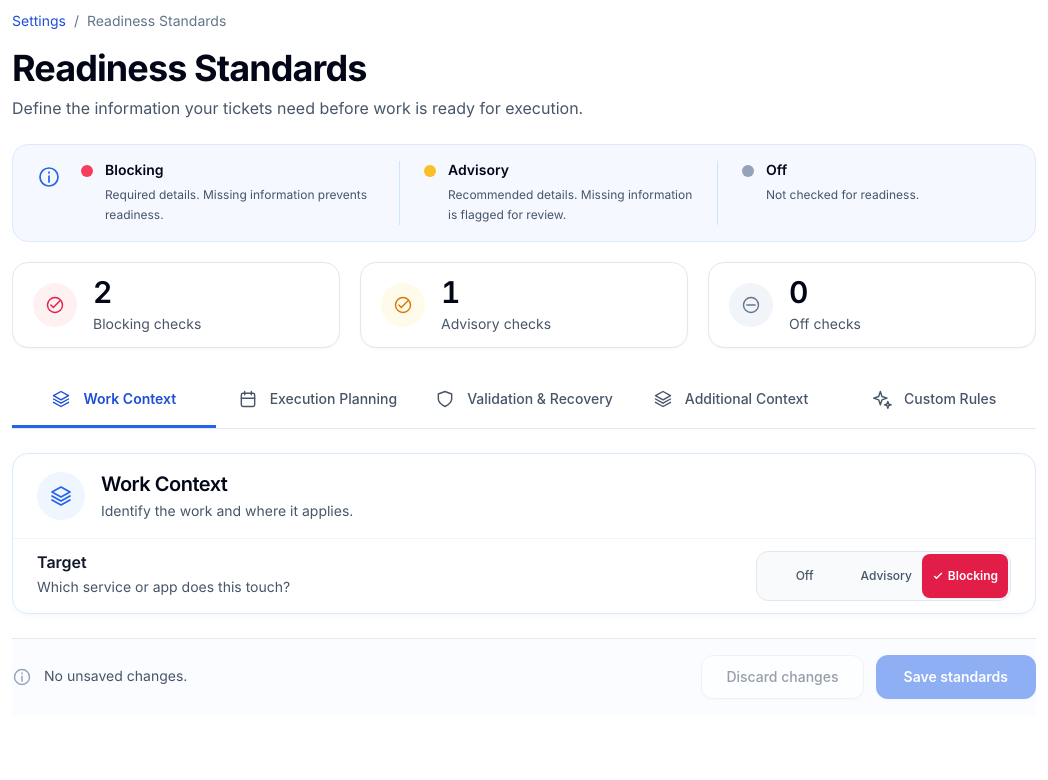
it: ChecklistSettingsPage › offers a custom-rules tab and does not claim a failed rule load is empty
Click the tab "Custom Rules": coordinates (934, 400) [832,372,1036,428]
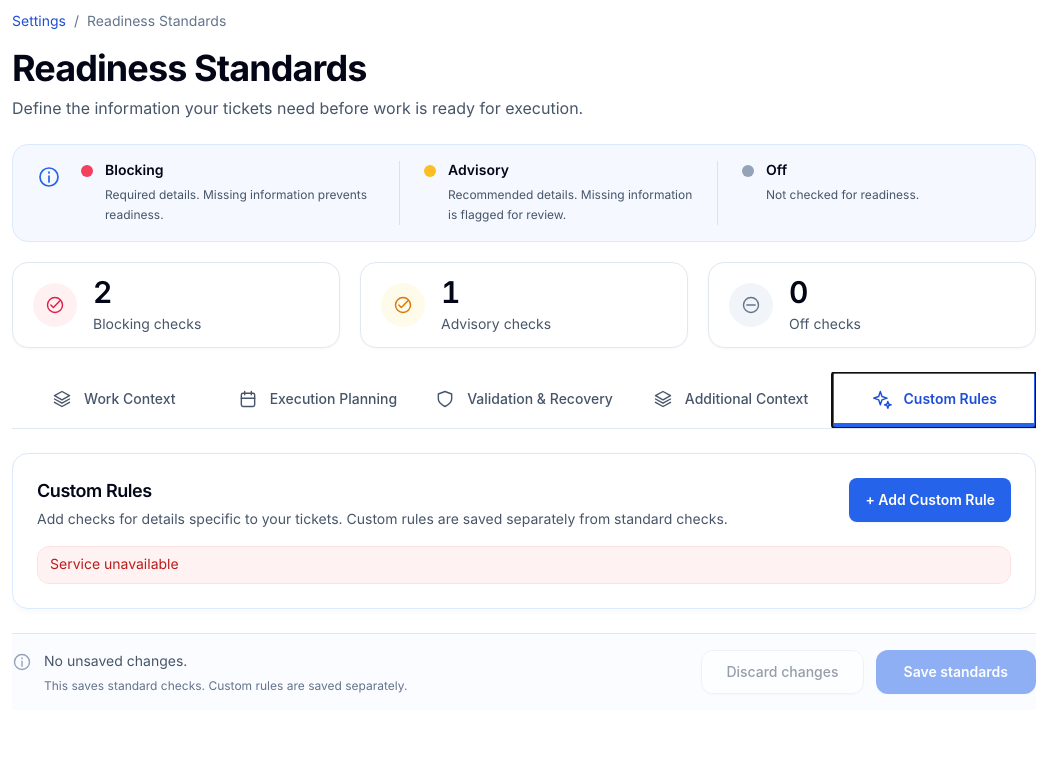
Expected: the message "Service unavailable" is shown, [37,546,1011,584]
